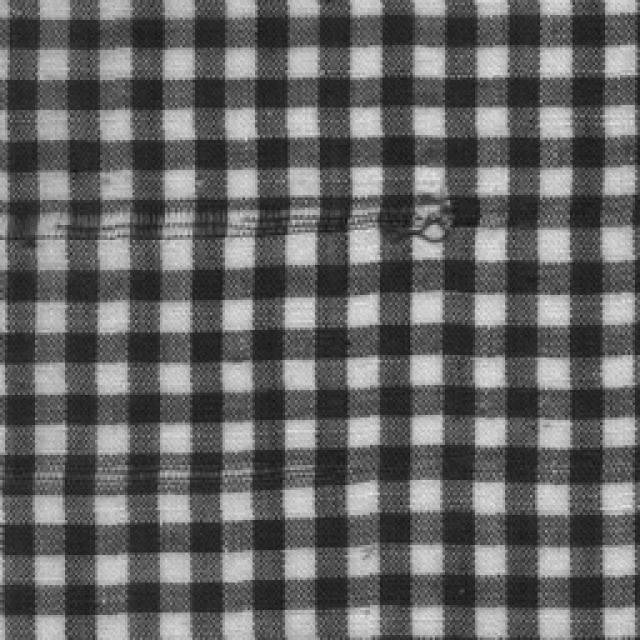defect: (4, 193, 464, 247)
